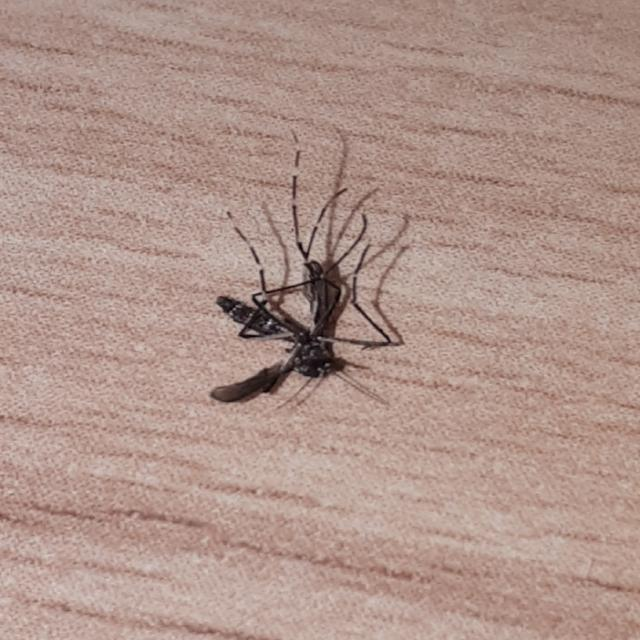albopictus: (198, 148, 431, 416)
